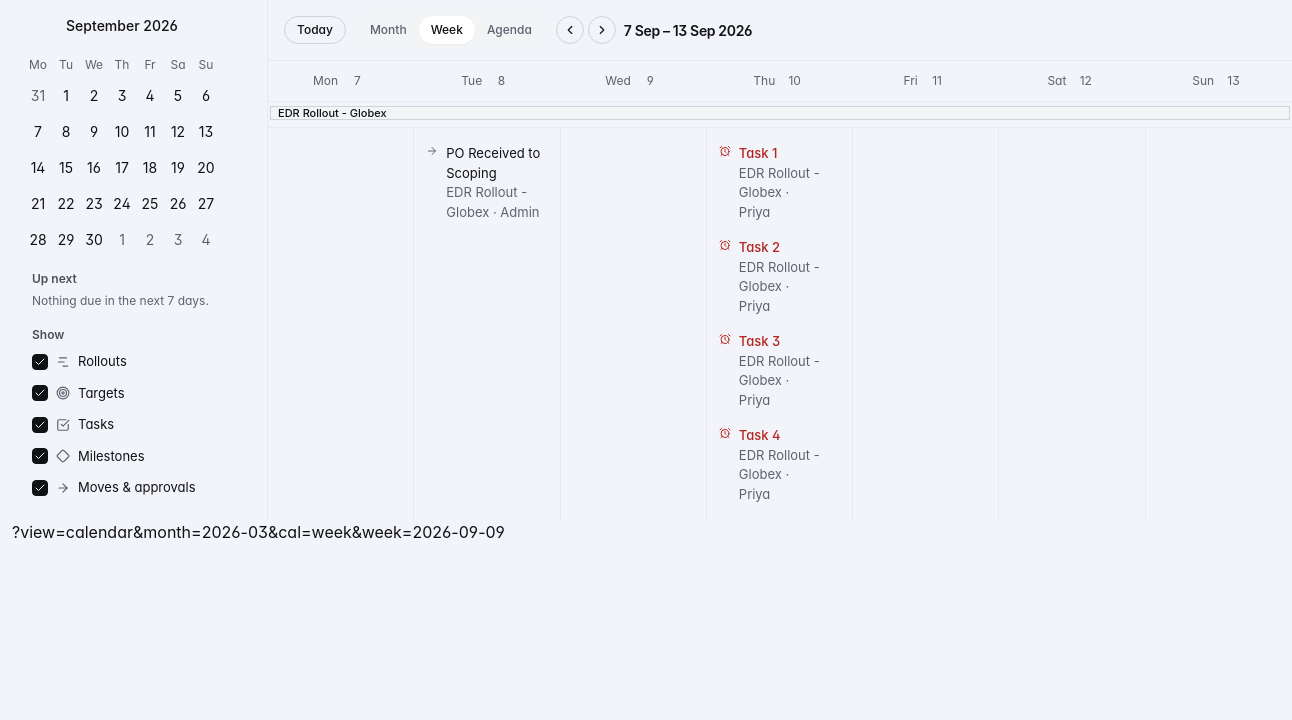
Test: Calendar › Week: the week's rollouts and every item per day, today tinted; back to Month lands on the week's month (P3-50, P3-34)
Expected: the heading reads "7 Sep – 13 Sep 2026", [624,22,752,38]
Expected: the element named "Rollouts running this week" reads "EDR Rollout - Globex", [270,106,1290,120]
Click the radio button labelled "Month". click: click(388, 30)
box: [358,16,419,44]
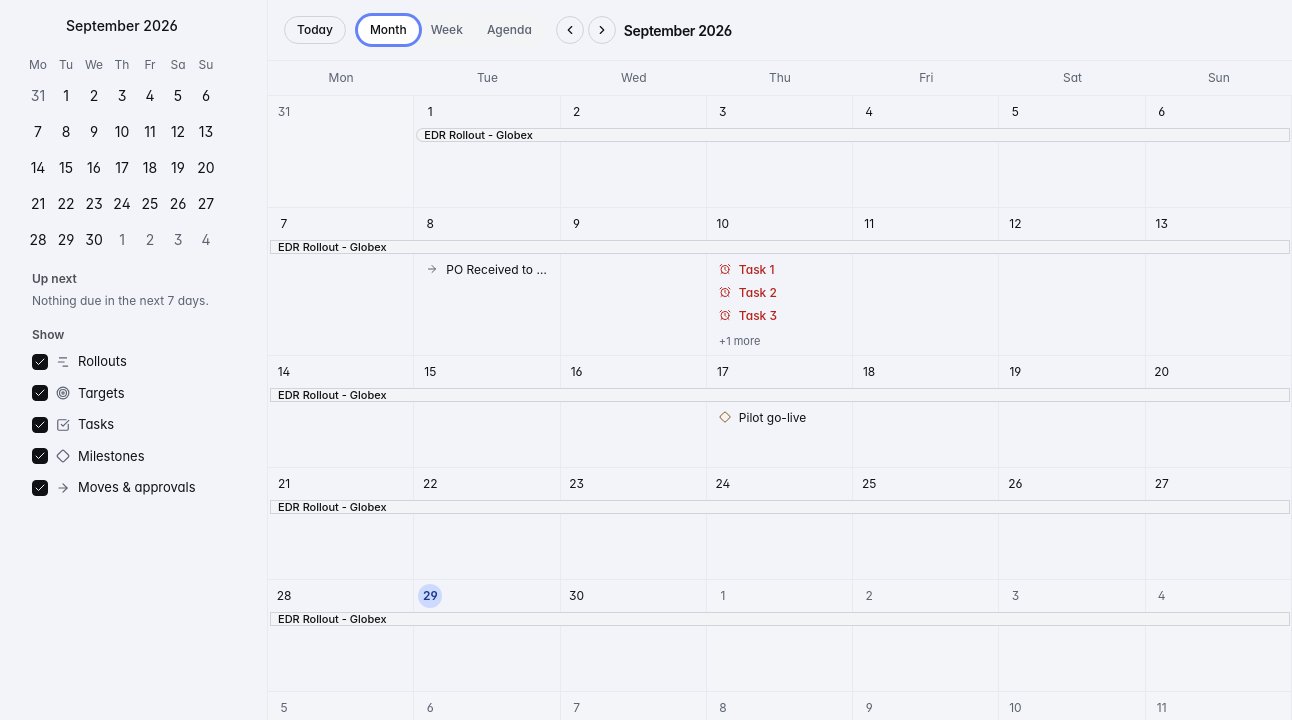
Expected: the heading reads "September 2026", [624,22,732,38]
